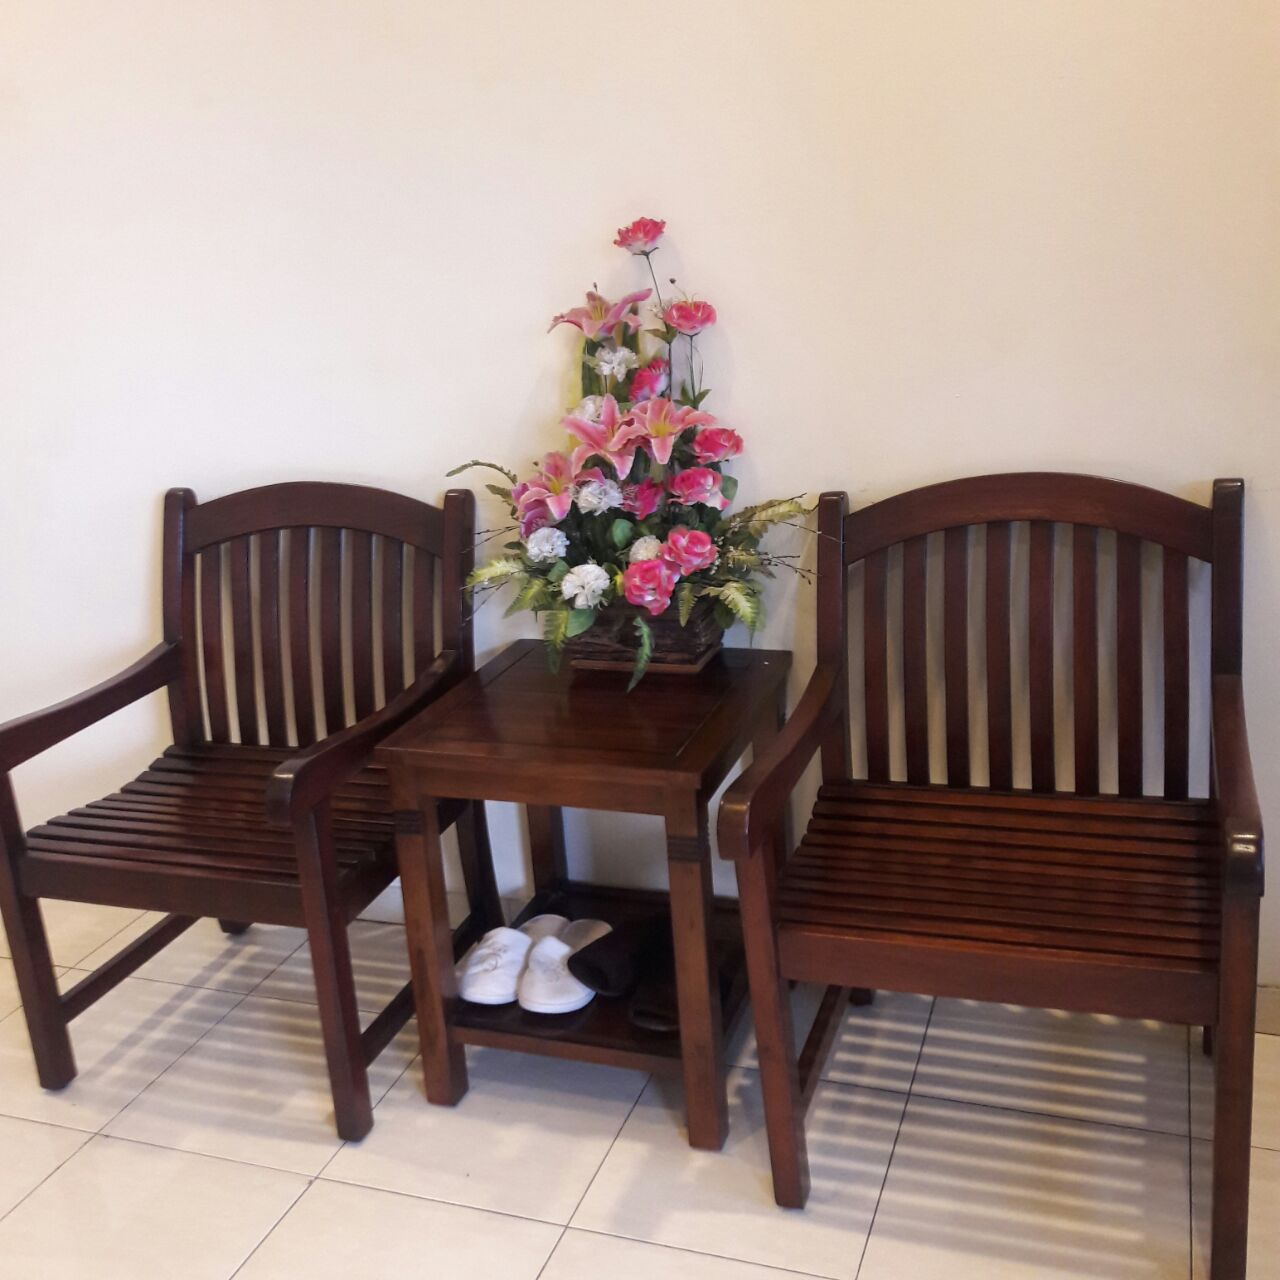kursi: (790, 465, 1280, 1257), (1, 483, 448, 1143)
meja: (389, 642, 749, 1165)
tanaman: (503, 215, 745, 679)
